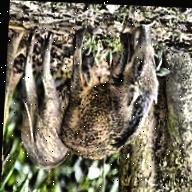boar: (56, 22, 181, 174), (8, 33, 78, 178)
